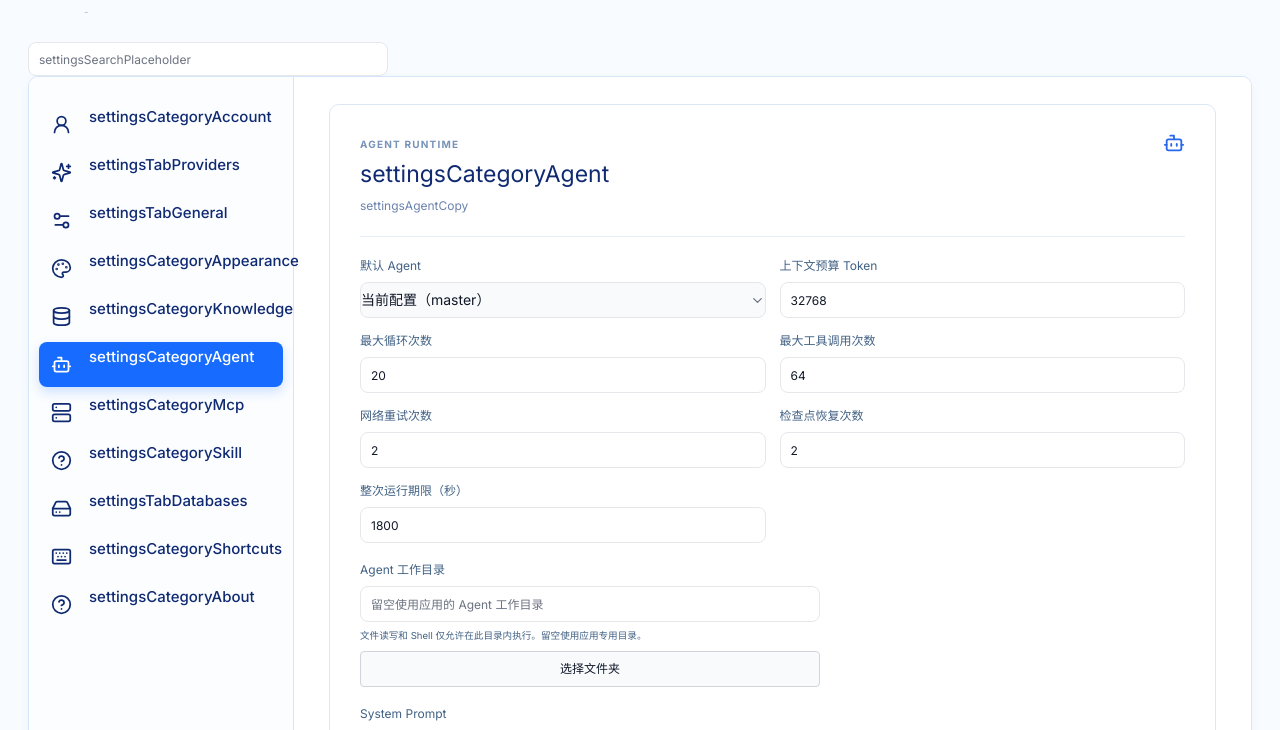
it: SettingsPage › shows empty provider fields when no model has been configured
(page scrolled)
Step 1. Click the tab "settingsTabProviders" → coordinates (161, 173), box [39,150,283,195]
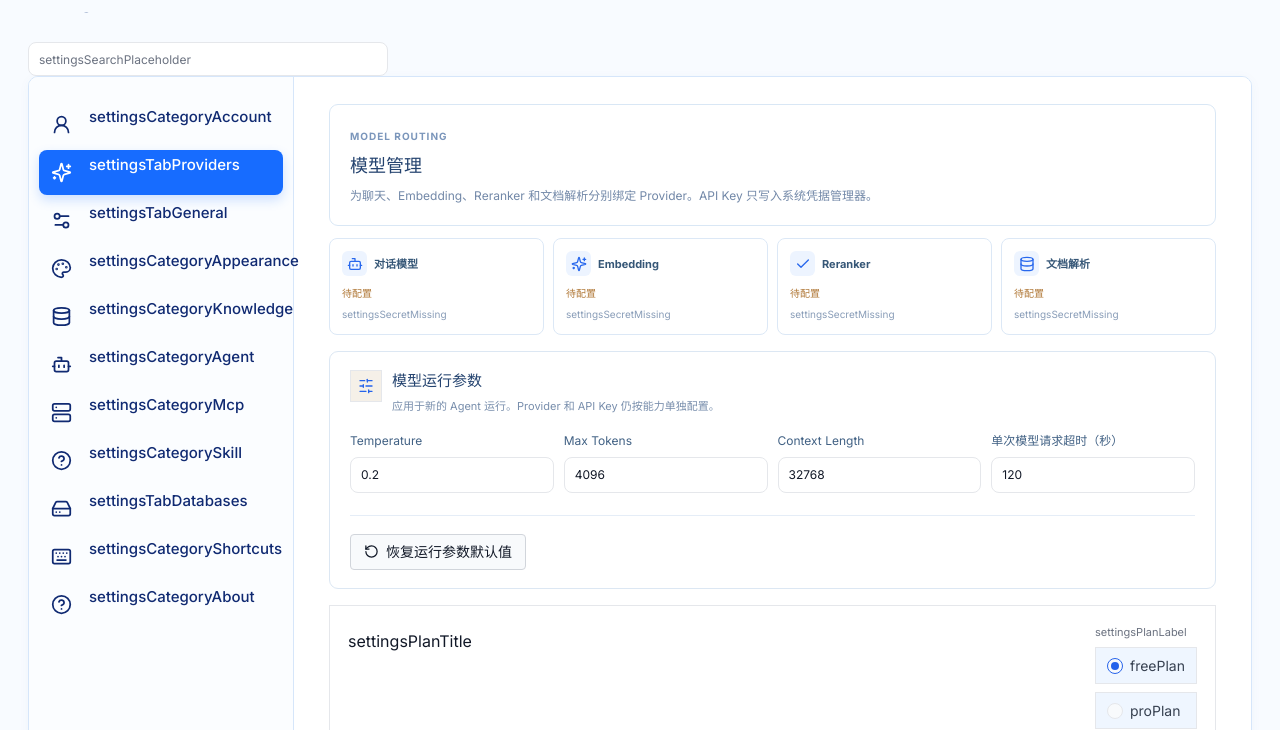
Result: the text "settingsSecretMissing" below "对话模型" is shown at [342,308,446,320]
